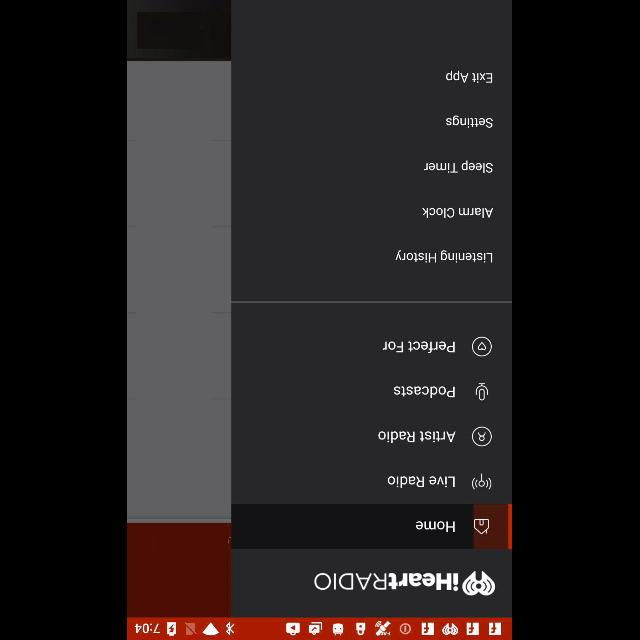icon: (472, 336, 492, 356), (472, 426, 492, 446), (474, 518, 490, 534), (476, 384, 488, 401)
image: (315, 570, 497, 596), (472, 472, 492, 490)
panel: (232, 0, 512, 616)
text: (396, 250, 494, 262), (379, 431, 457, 443), (424, 160, 494, 173), (384, 341, 456, 353), (388, 476, 456, 488), (394, 386, 456, 398), (422, 208, 494, 218), (446, 70, 494, 84), (446, 114, 494, 128), (416, 521, 456, 533)
uppertaskbar: (128, 617, 512, 639)
